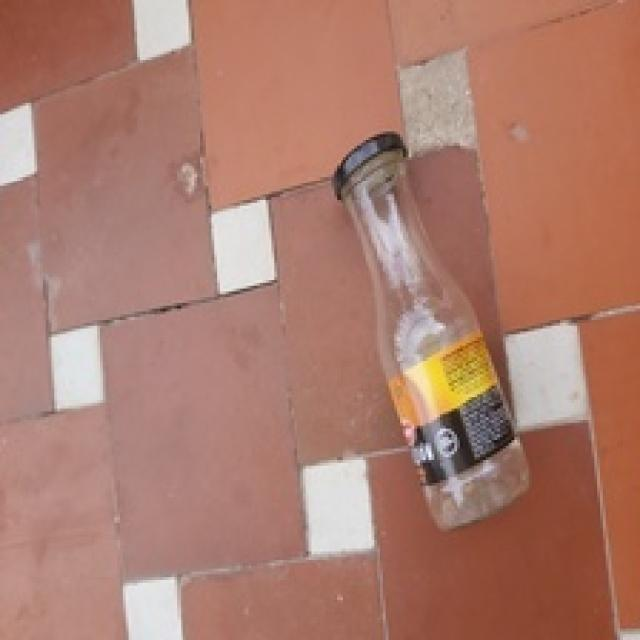Glass: (341, 144, 534, 532)
